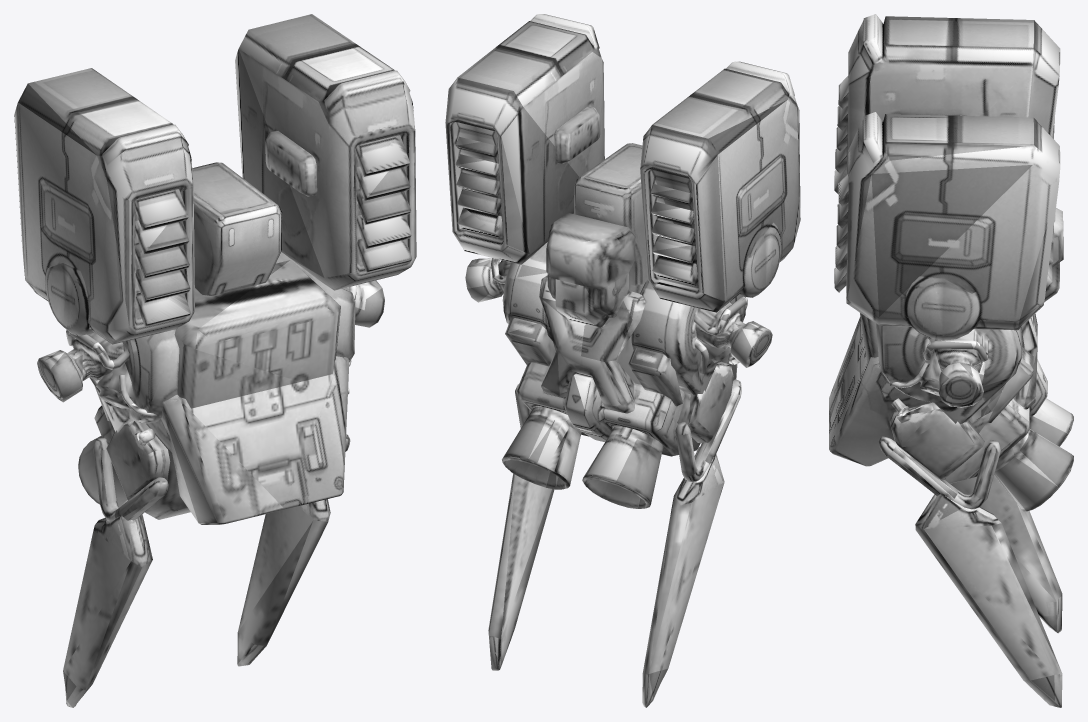
The model's file is b_eff.glb.
3 views of the same model, side by side, from view 1: azimuth 30°, elevation 25°; view 2: azimuth 150°, elevation 25°; view 3: azimuth 270°, elevation 25° (orthographic). The views are drawn at different scales.
Parts seen in each view (by area): view 1: b_eff; view 2: b_eff; view 3: b_eff.
Part boxes in pixels (left/top/right/bottom): b_eff: left=14, top=14, right=416, bottom=707; b_eff: left=445, top=14, right=800, bottom=707; b_eff: left=829, top=14, right=1073, bottom=707.
Size of the model in its own units: 0.9237 by 1.75 by 0.652.
3 materials, 3 textured.
